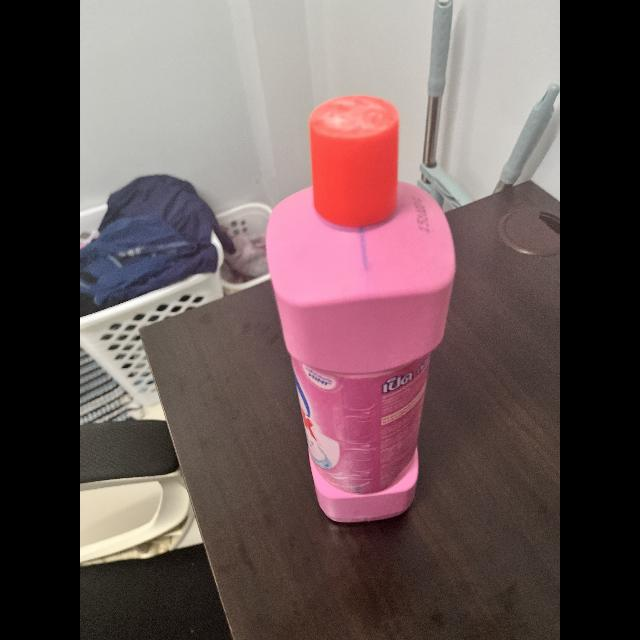chemical_plastic_bottle: (261, 80, 459, 524)
